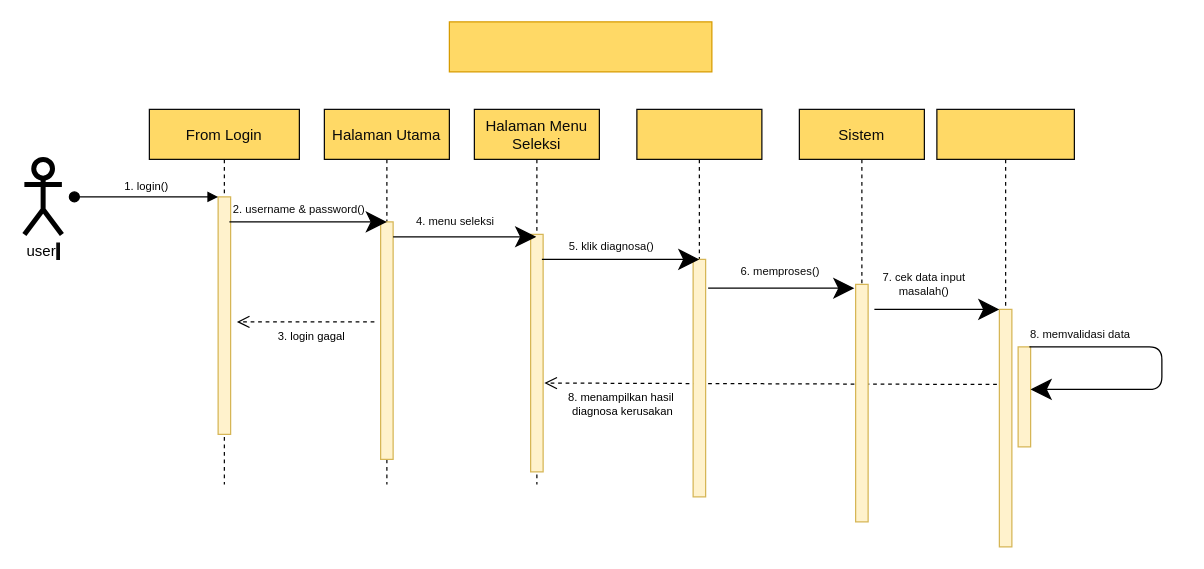
Image size: 1204x569. Some labels were removed from this diagram. The shapes that lost their labels are listed below. From the top down, each one's centre as x and y in pixels, then its label:
At (580,46): "Squence Diagram".
At (699,296): "Halaman Diagnosa Masalah".
At (1005,296): "Database".
